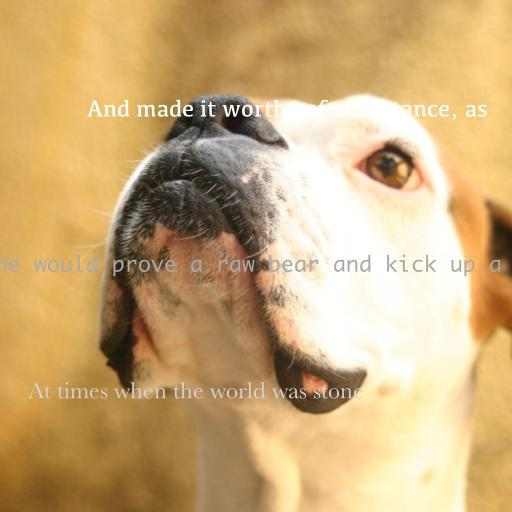Baskerville: (28, 382, 364, 399)
Kefa: (86, 99, 488, 122)
Monaco: (0, 254, 512, 277)
